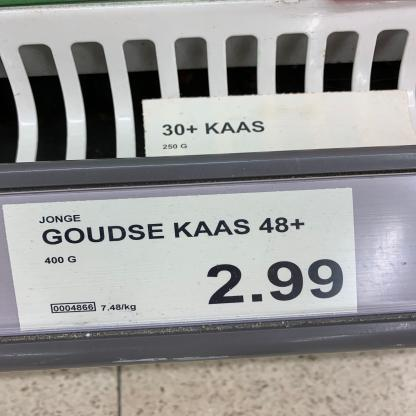prtg: (2, 188, 359, 332), (143, 90, 415, 158)
